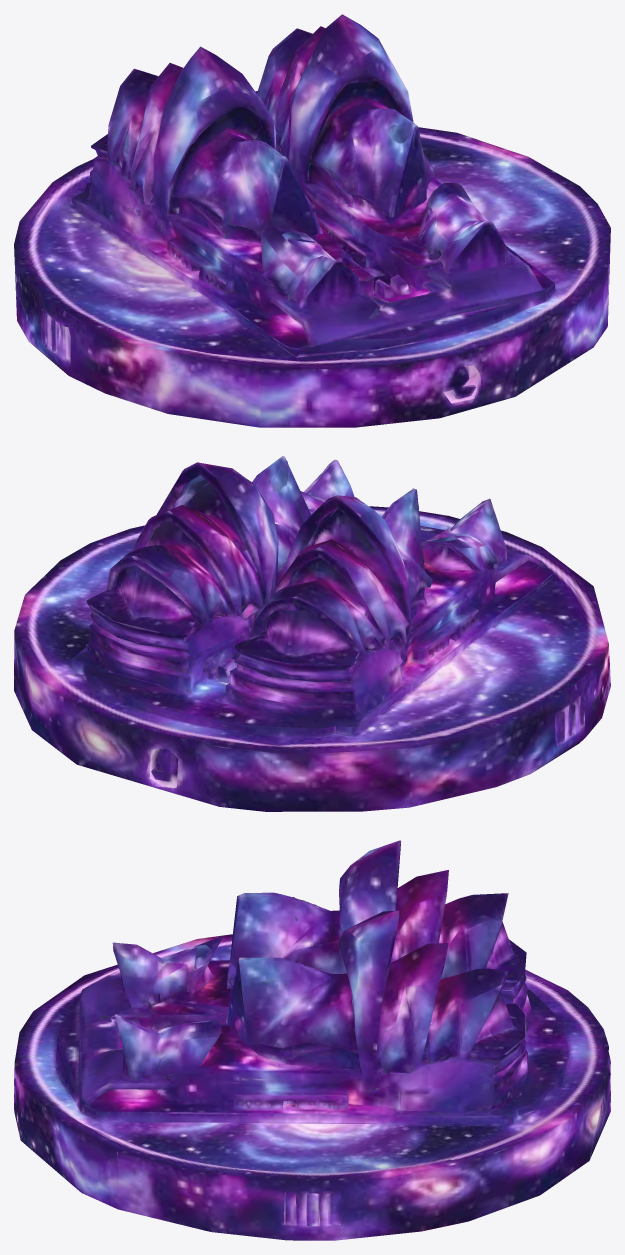
File: sydney_opera_celestial.glb
The picture shows the model from 3 angles, top to bottom: view 1: azimuth 30°, elevation 25°; view 2: azimuth 150°, elevation 25°; view 3: azimuth 270°, elevation 25°; orthographic projection.
Visible parts, largest first — view 1: Mesh_0; view 2: Mesh_0; view 3: Mesh_0.
Boxes of the visible parts, x1,y1,x2,y2 form: Mesh_0: [14, 14, 610, 427]; Mesh_0: [14, 456, 610, 811]; Mesh_0: [14, 840, 610, 1240].
Size of the model in its own units: 1.91 by 0.8566 by 1.91.
1 material, 1 textured.
